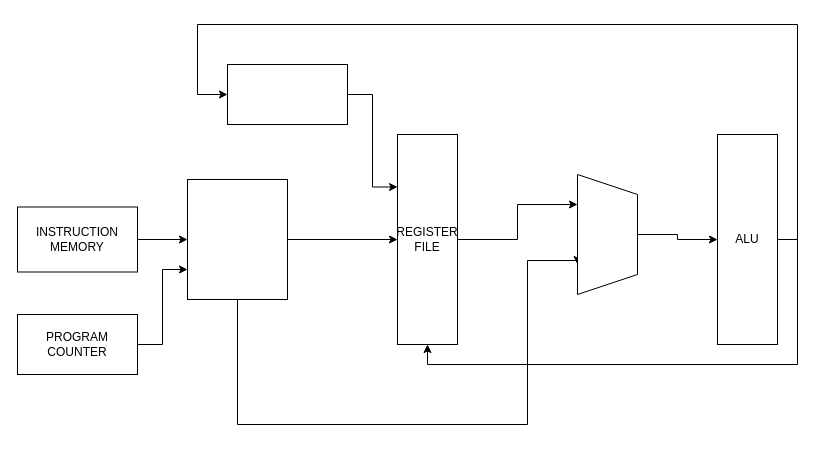
Some shapes in this 823 by 450 pixel diagram are drawn without their labels. The shapes that lost their labels are listed below. From the top down, each one's box as (x1, y1, x2, y2) in pixels, then its label:
(226, 64, 348, 124): DATA MEMORY
(186, 178, 288, 300): DECODER / IMMEDIATE GENERATOR
